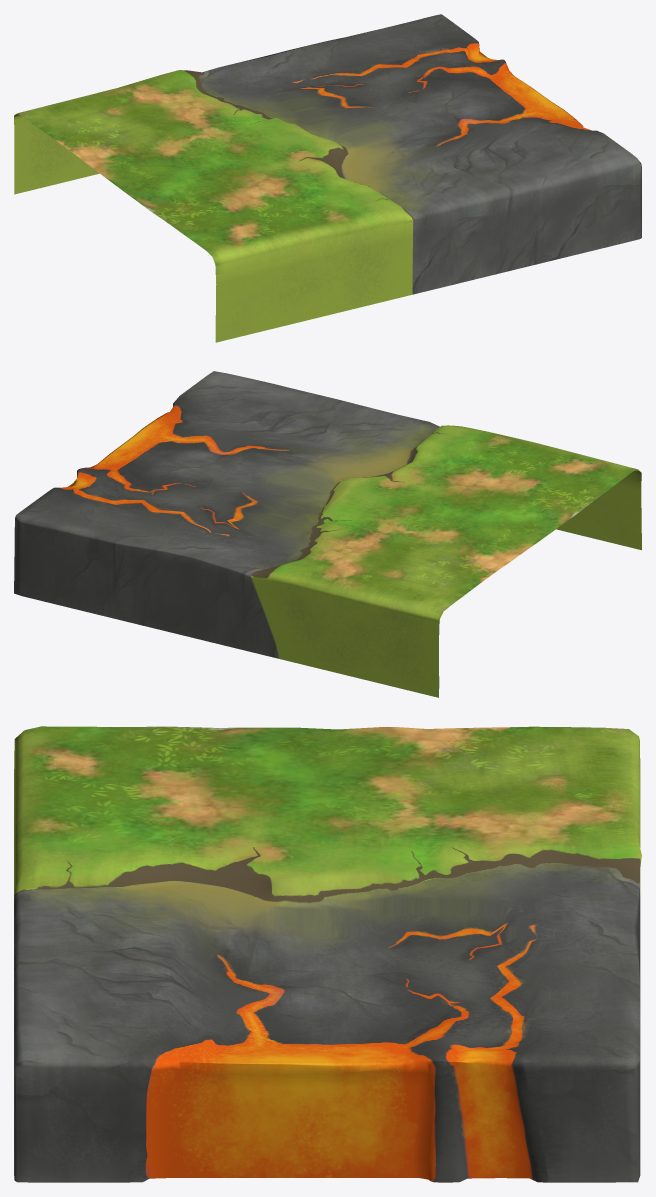
The model's file is landot fahmi_L1.fbx.
The picture shows the model from 3 angles, top to bottom: view 1: azimuth 30°, elevation 25°; view 2: azimuth 150°, elevation 25°; view 3: azimuth 270°, elevation 25°; orthographic projection. The views are drawn at different scales.
Parts seen in each view (by area): view 1: level_zrmsher:Group18639; view 2: level_zrmsher:Group18639; view 3: level_zrmsher:Group18639.
Boxes of the visible parts, x1,y1,x2,y2 form: level_zrmsher:Group18639: (14,14,641,342); level_zrmsher:Group18639: (14,371,641,697); level_zrmsher:Group18639: (14,726,641,1182).
Size of the model in its own units: 2226 by 426 by 1825.
1 material, 1 textured.
